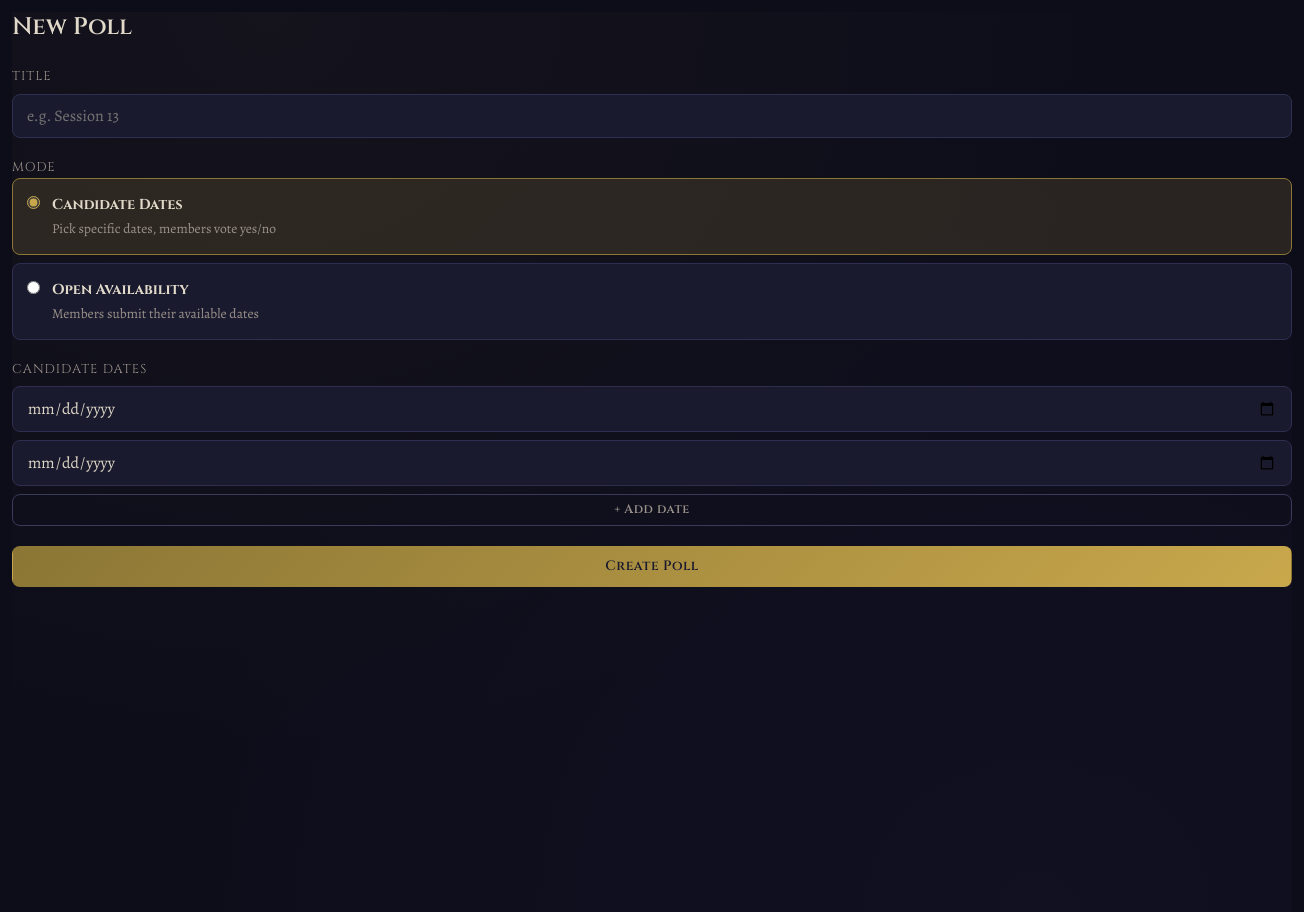
Test case: CreatePoll › can add and remove date inputs
Note: Add a date
Click the button "+ Add date" at (652, 510), box top-left (12, 494), bottom-right (1292, 526)
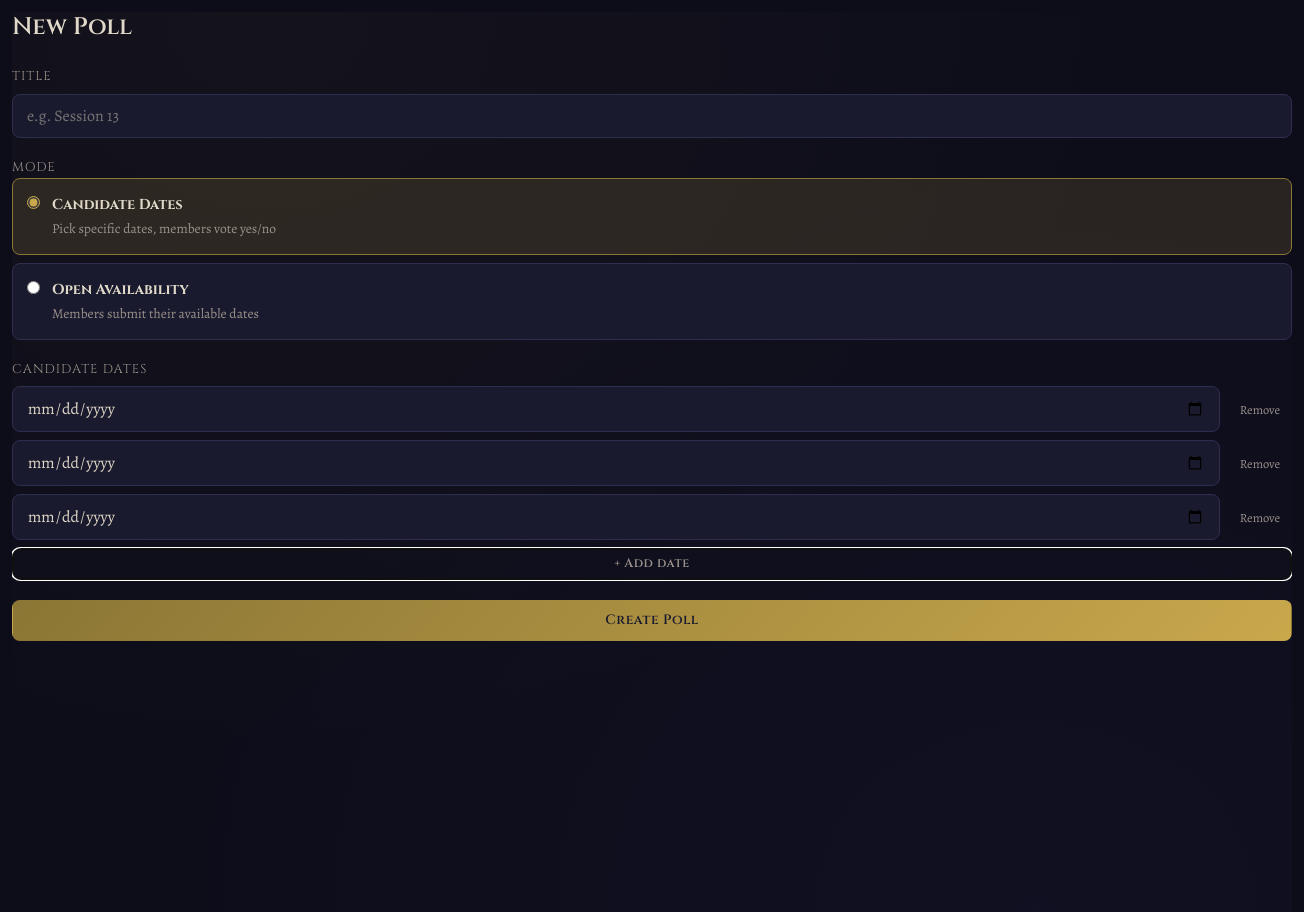
Expected: the number of date fields is 3, top-left (12, 386), bottom-right (1220, 432); top-left (12, 440), bottom-right (1220, 486); top-left (12, 494), bottom-right (1220, 540)
Expected: the number of buttons "Remove" is 3
Note: Remove one
Click the 1st button "Remove" at (1260, 409), box top-left (1228, 395), bottom-right (1292, 424)
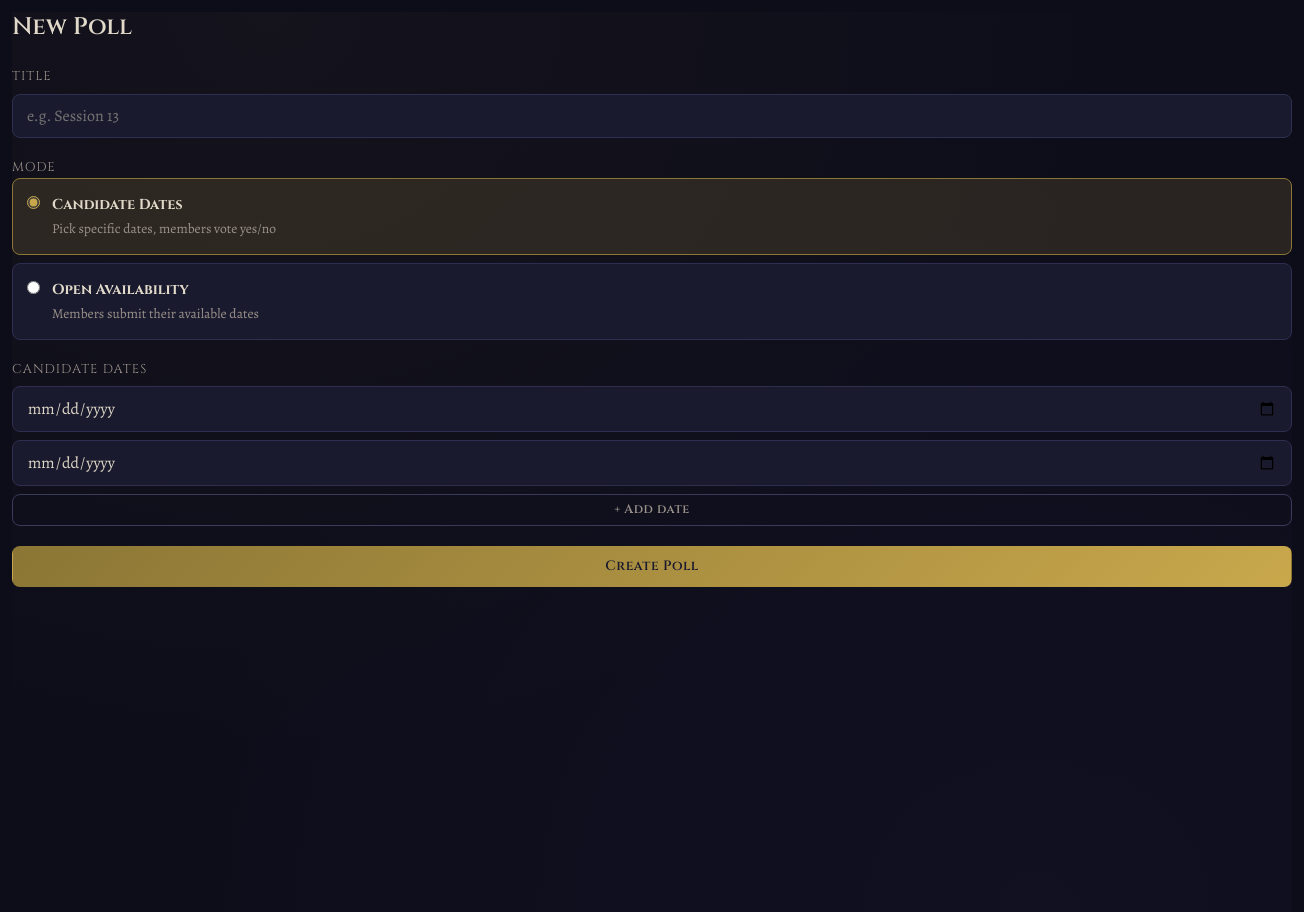
Expected: the number of date fields is 2, top-left (12, 386), bottom-right (1292, 432); top-left (12, 440), bottom-right (1292, 486)
